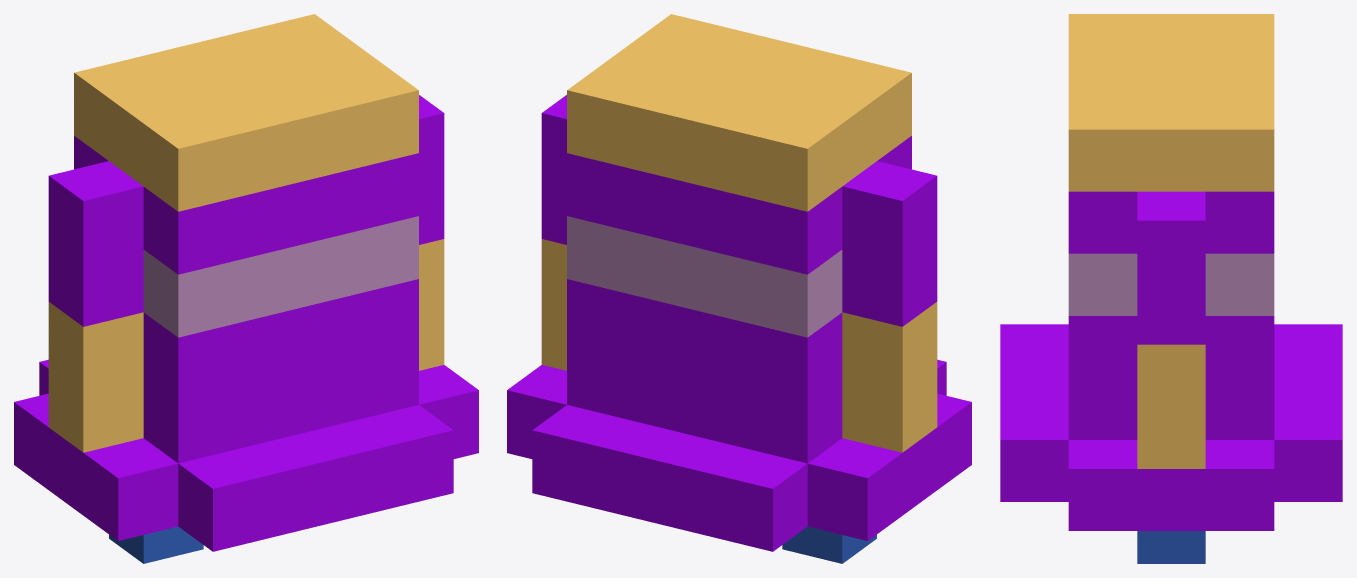
File: Body 8.obj
The picture shows the model from 3 angles, left to right: view 1: azimuth 30°, elevation 25°; view 2: azimuth 150°, elevation 25°; view 3: azimuth 270°, elevation 25°; orthographic projection.
Size of the model in its own units: 6 by 7 by 5.
Materials: 1 (1 with a texture image).
